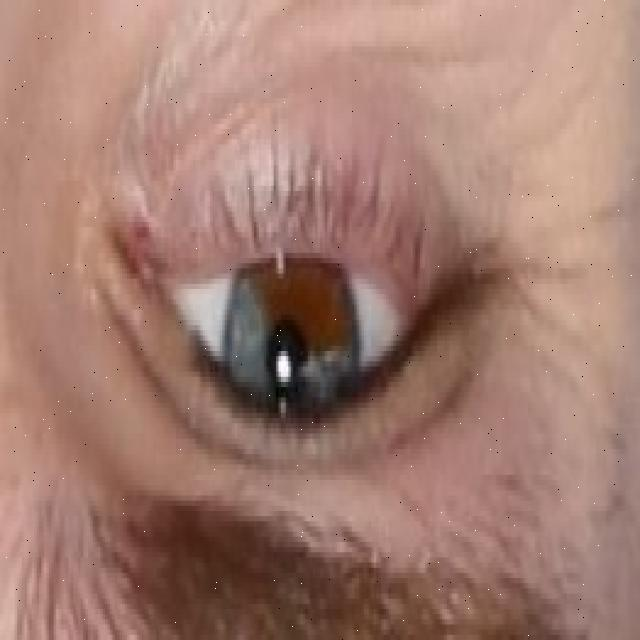Normal: (225, 229, 360, 479)
